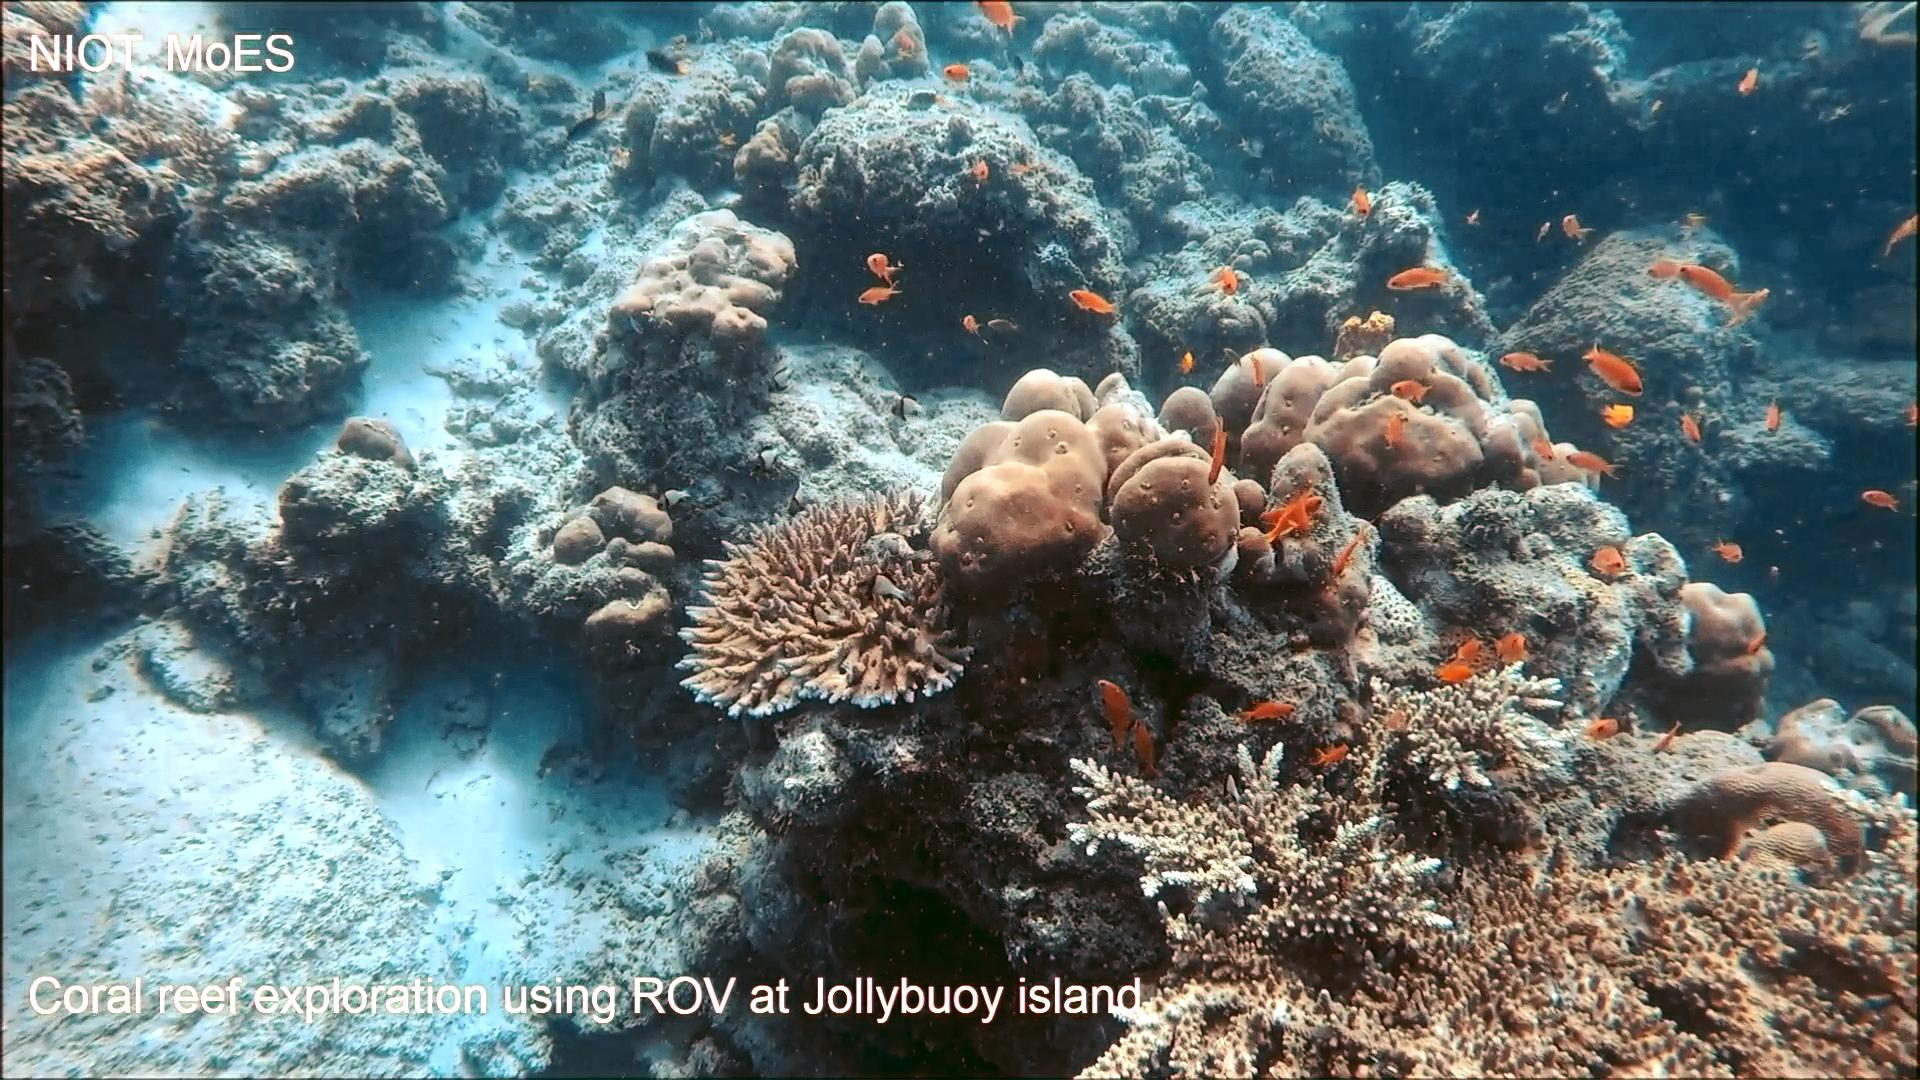Porites-Porites pukoensis: (919, 367, 1279, 605), (1200, 327, 1610, 512)
